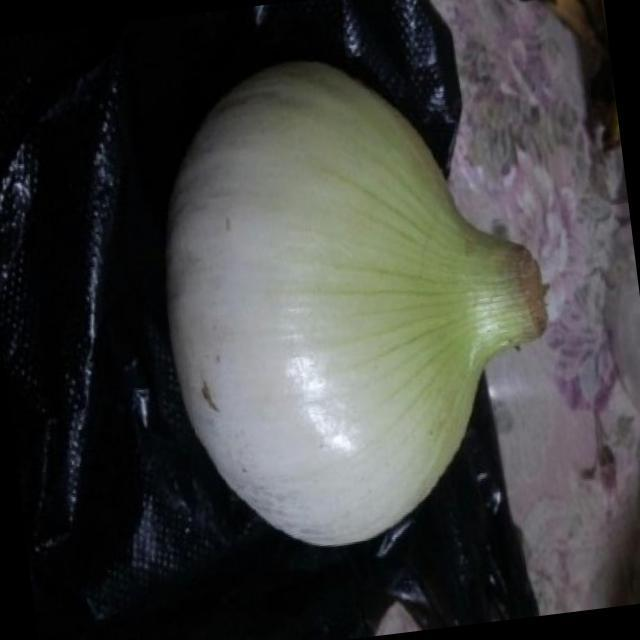Onion: (167, 78, 548, 552)
